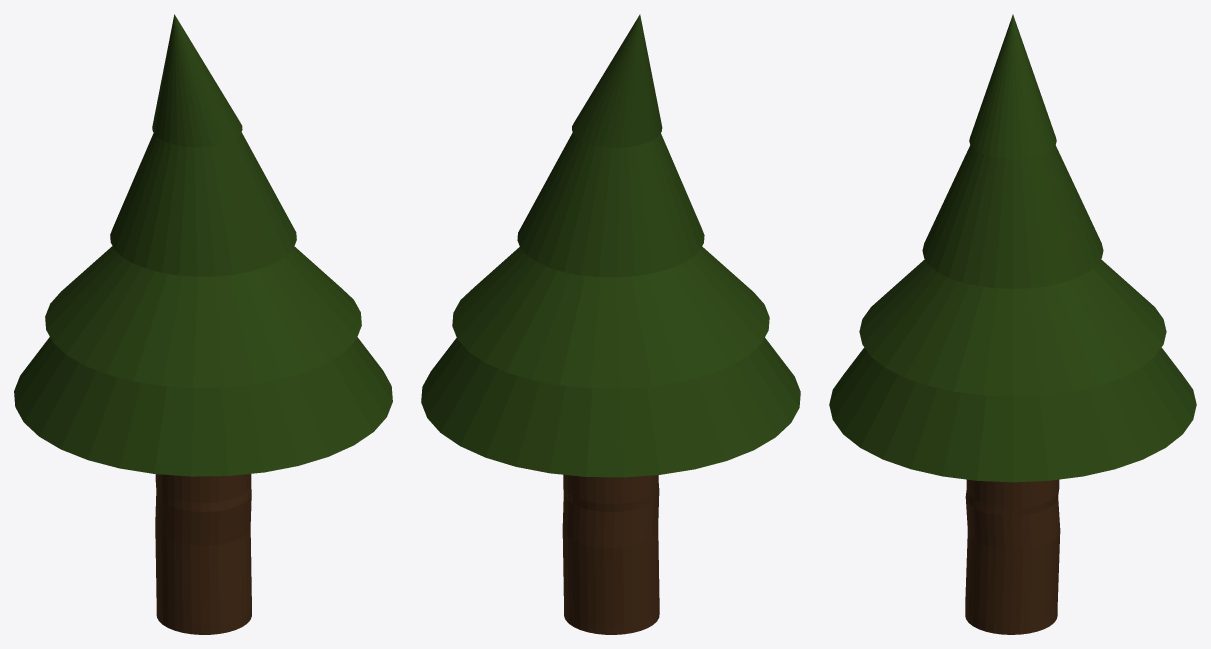
File: pino.fbx
The picture shows the model from 3 angles, left to right: view 1: azimuth 30°, elevation 25°; view 2: azimuth 150°, elevation 25°; view 3: azimuth 270°, elevation 25°; orthographic projection. The views are drawn at different scales.
Visible parts, largest first — view 1: Cylinder; view 2: Cylinder; view 3: Cylinder.
Boxes of the visible parts, bbox=[...] form: Cylinder: bbox=[14, 14, 392, 634]; Cylinder: bbox=[421, 14, 800, 634]; Cylinder: bbox=[829, 14, 1196, 634].
Size of the model in its own units: 794 by 1402 by 794.
Materials: 1 (1 with a texture image).
